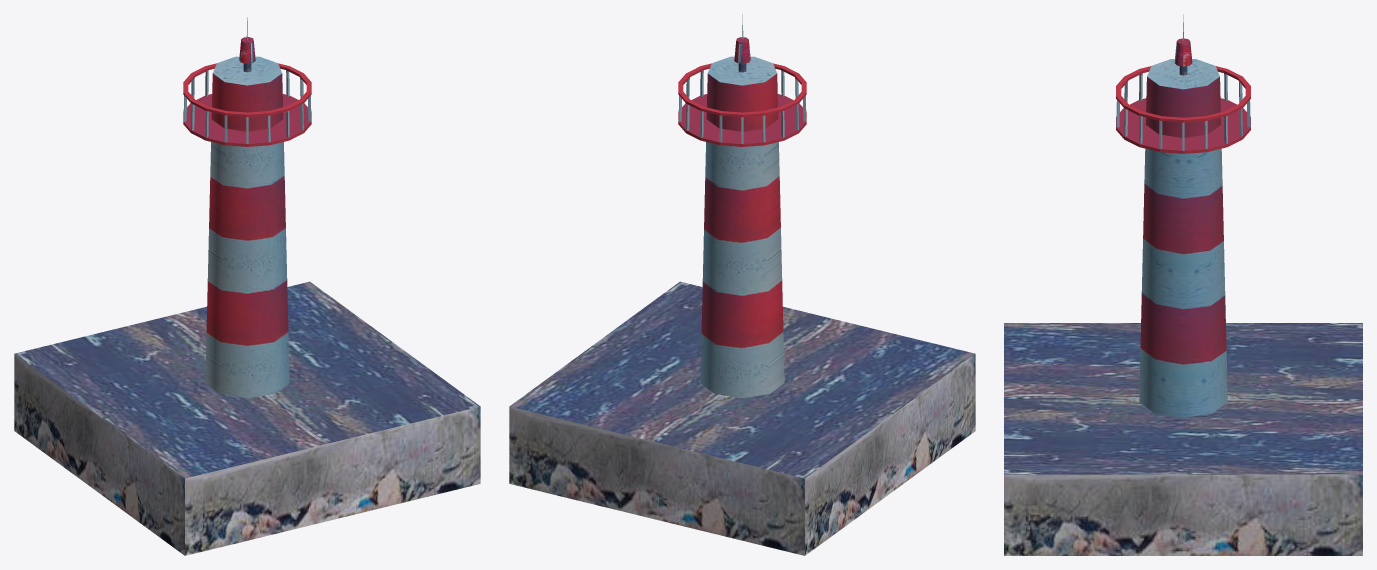
The picture shows the model from 3 angles, left to right: view 1: azimuth 30°, elevation 25°; view 2: azimuth 150°, elevation 25°; view 3: azimuth 270°, elevation 25°; orthographic projection. The views are drawn at different scales.
Parts seen in each view (by area): view 1: 5d64fe4ef1d5d51d74be8f2a; view 2: 5d64fe4ef1d5d51d74be8f2a; view 3: 5d64fe4ef1d5d51d74be8f2a.
Boxes of the visible parts, left/top/right/bottom form: 5d64fe4ef1d5d51d74be8f2a: left=14, top=17, right=480, bottom=555; 5d64fe4ef1d5d51d74be8f2a: left=509, top=14, right=975, bottom=555; 5d64fe4ef1d5d51d74be8f2a: left=1004, top=14, right=1362, bottom=555.
Size of the model in its own units: 6 by 8.6 by 6.
Materials: 1 (1 with a texture image).
